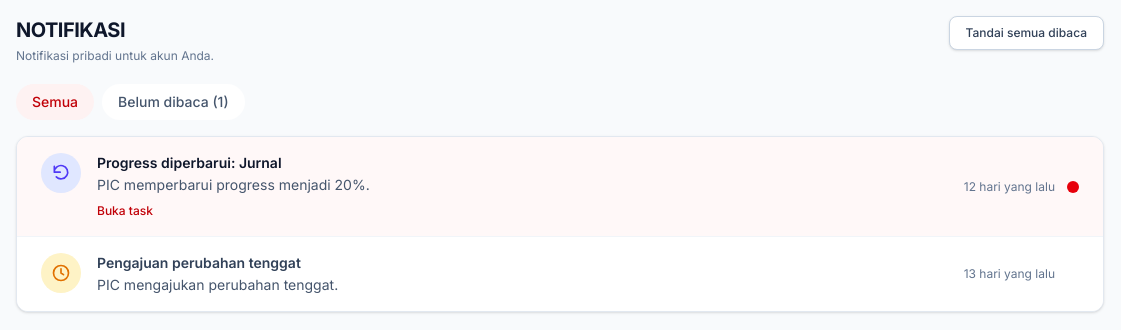
Test: NotificationInbox (FR-080) › renders read state, filters unread items, and marks them read
The image size is (1121, 330).
Check: the heading "Progress diperbarui: Jurnal" is shown, box [97,154,282,171]
Check: the heading "Pengajuan perubahan tenggat" is shown, box [97,254,301,271]
Click the button "Belum dibaca (1)". click: (173, 102)
box: [102,84,245,120]
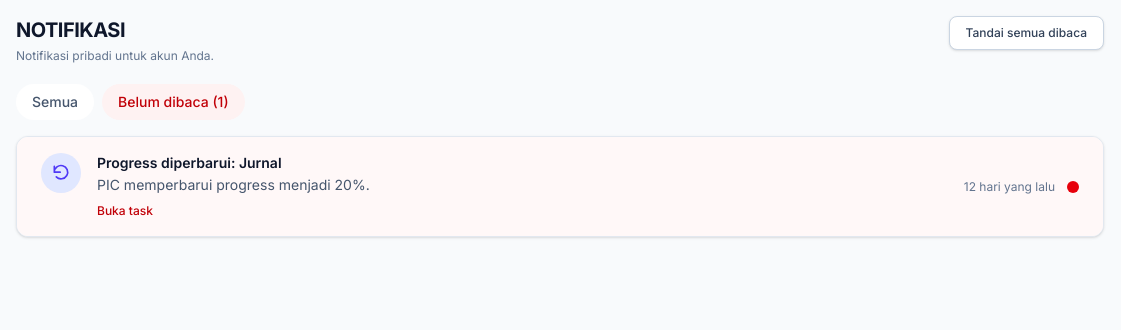
Check: the heading "Progress diperbarui: Jurnal" is shown, box [97,154,282,171]
Check: the heading "Pengajuan perubahan tenggat" is gone
Click the button named "Tandai \"Progress diperbarui: Jurnal\" sudah dibaca". click: (1073, 186)
box: [1067,180,1079,192]
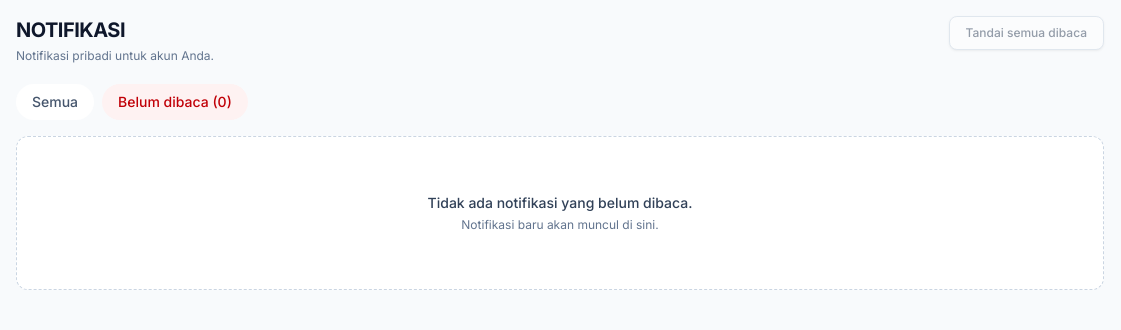
Check: the button "Belum dibaca (0)" is shown, box [102,84,248,120]
Check: the heading "Progress diperbarui: Jurnal" is gone
